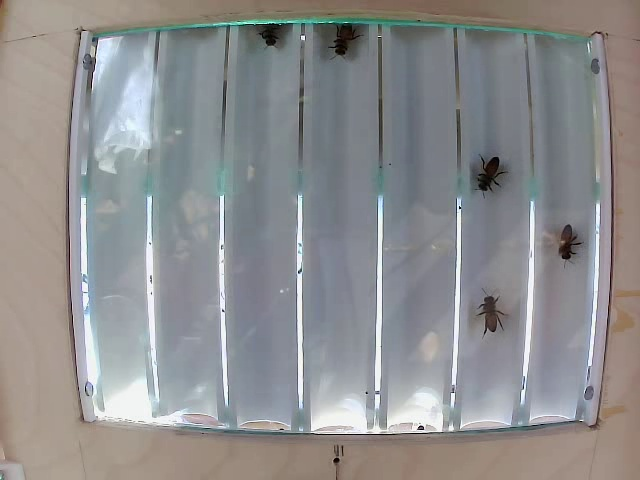bee: (467, 144, 503, 204), (483, 289, 510, 339), (547, 216, 574, 261), (327, 16, 356, 56)
